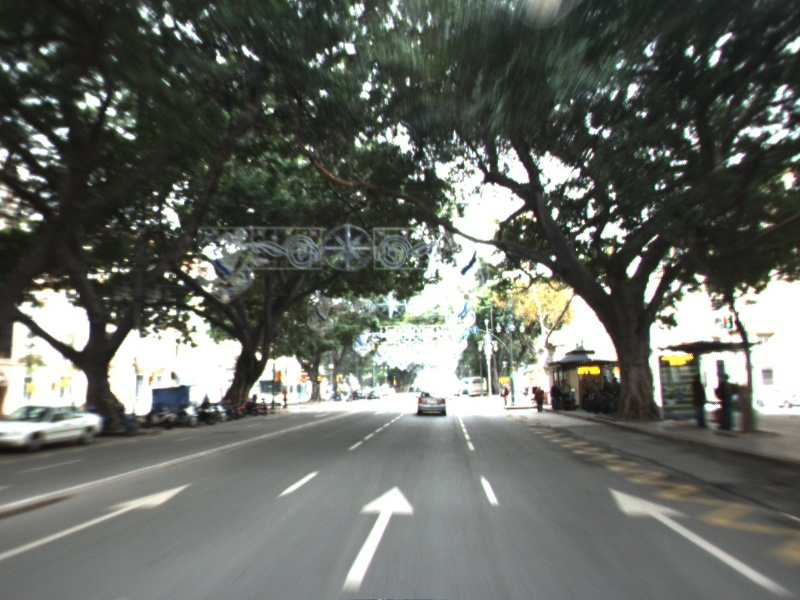STRAIGHT: (605, 484, 800, 600), (1, 480, 197, 560), (338, 483, 417, 596)
